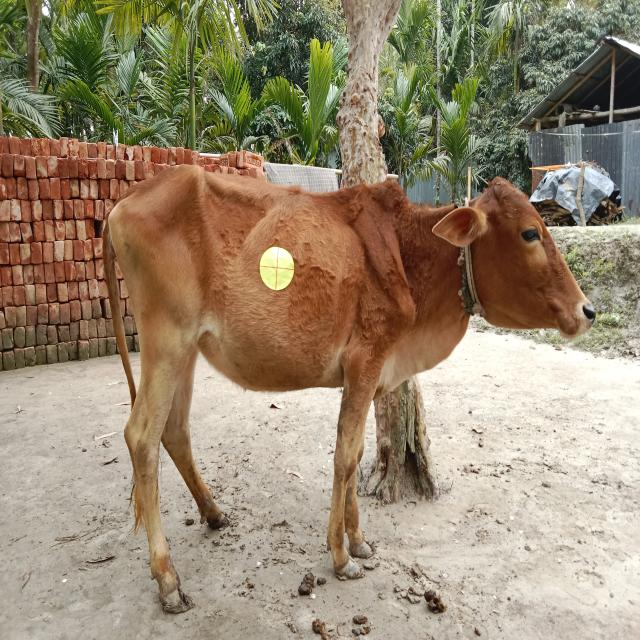badan_sapi: (108, 188, 410, 401)
sapi: (83, 140, 606, 625)
